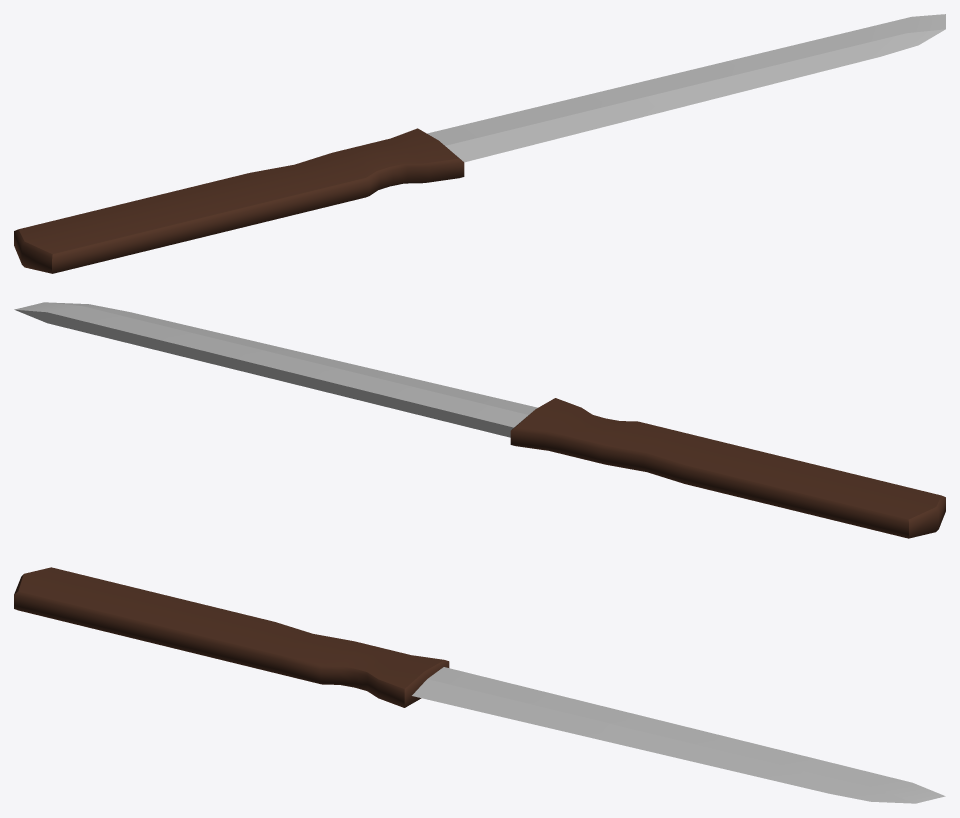
File: DiningKnife.fbx
3 views of the same model, one above another, from view 1: azimuth 30°, elevation 25°; view 2: azimuth 150°, elevation 25°; view 3: azimuth 330°, elevation 25° (orthographic). The views are drawn at different scales.
Parts seen in each view (by area): view 1: Knife:Knife1; view 2: Knife:Knife1; view 3: Knife:Knife1.
Boxes of the visible parts, x1=… form: Knife:Knife1: x1=14, y1=14, x2=945, y2=273; Knife:Knife1: x1=14, y1=302, x2=945, y2=538; Knife:Knife1: x1=14, y1=567, x2=945, y2=803.
Bounding box in the file's own units: 41.43 × 1.09 × 3.53.
